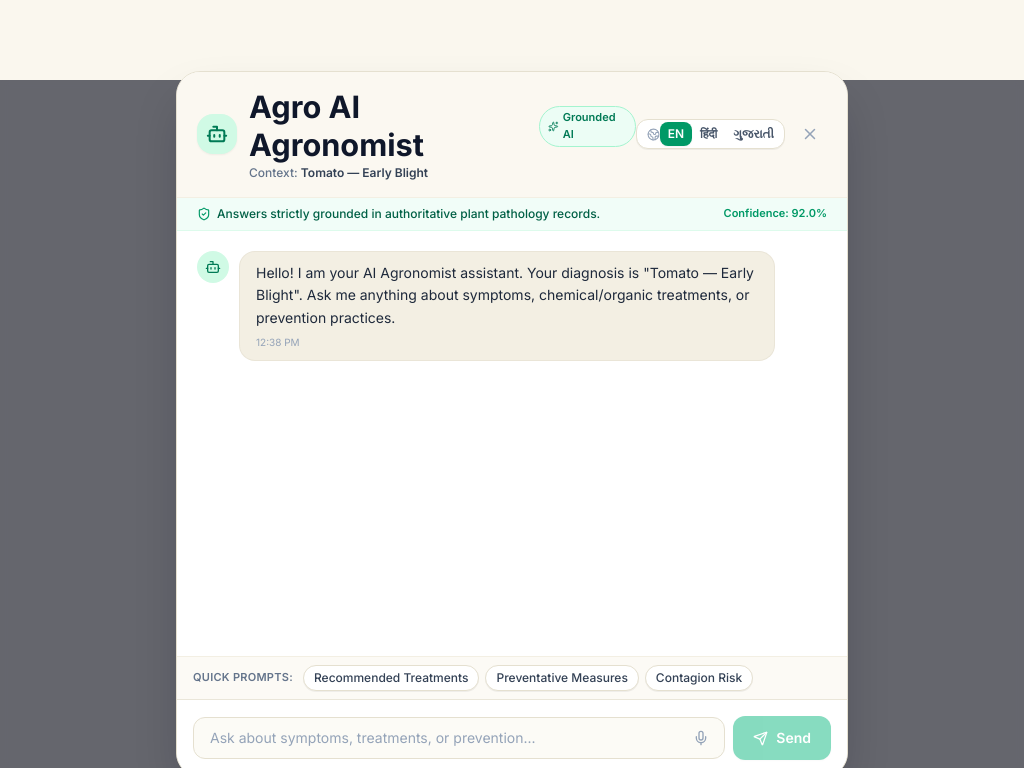
Scenario: DiagnosisChatAssistant Component › displays retryable error message when API fails
Type "What should I do?" into the field with placeholder "Ask about symptoms, treatments, or prevention..." at coordinates (459, 738), box [193,717,725,759]
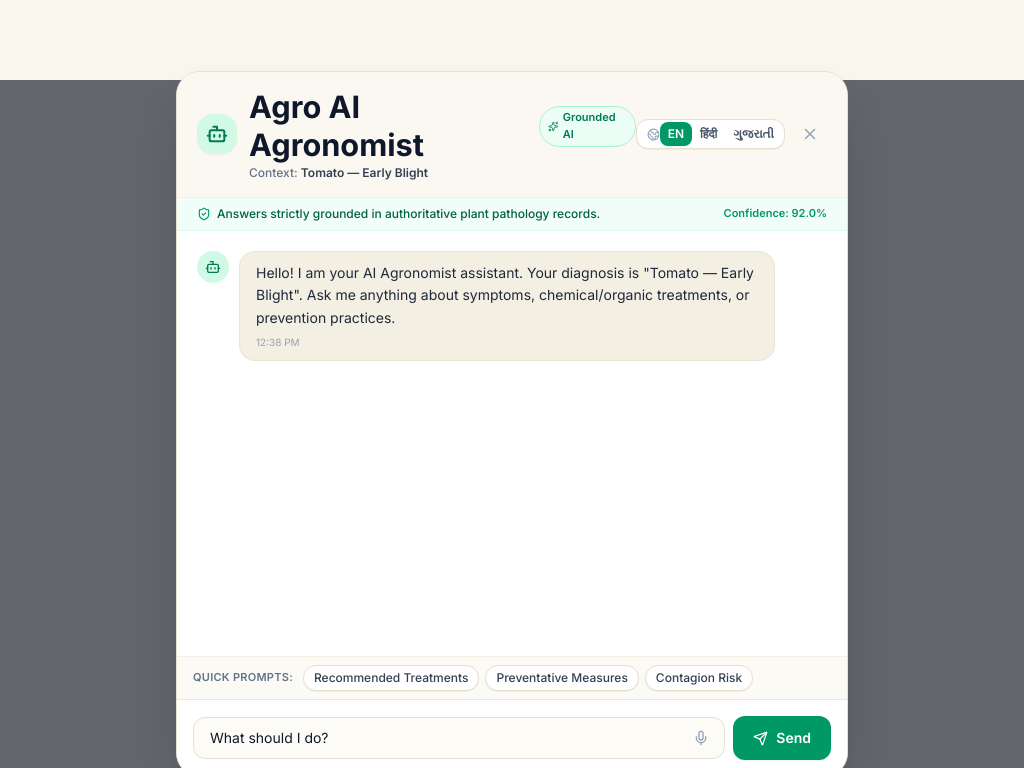
Click the button with aria-label "send message to agro ai" at coordinates (782, 738), box [733,716,831,760]
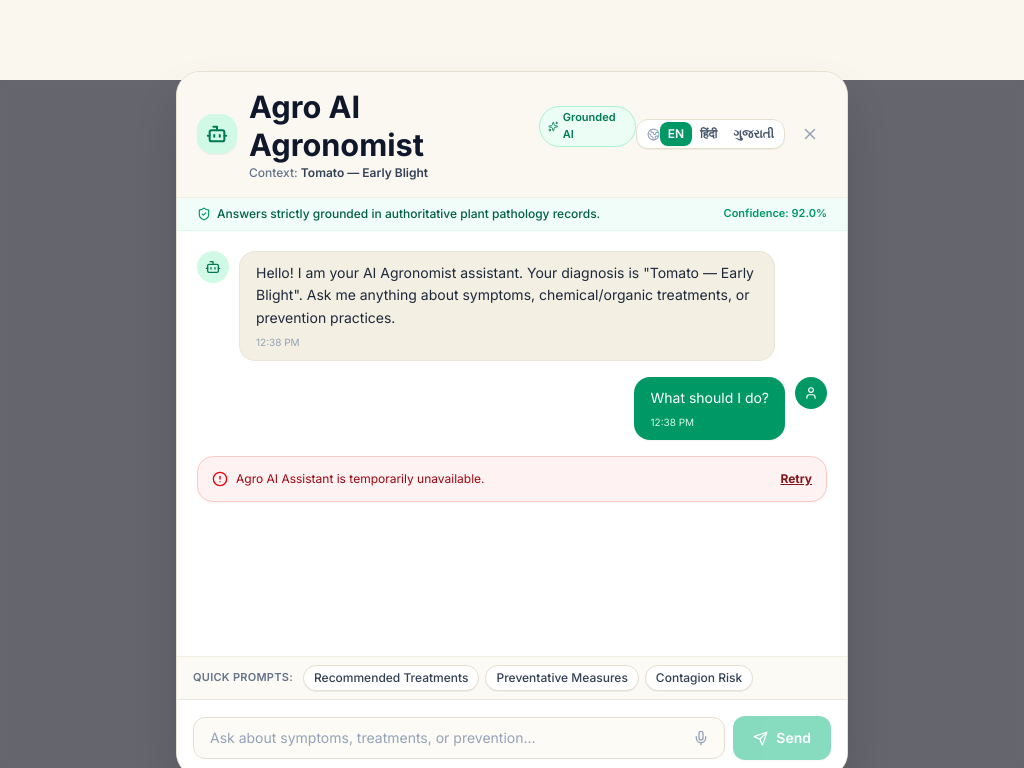
Check: the message "Agro AI Assistant is temporarily unavailable. Retry" is shown, box [197,456,827,502]
Check: the text "Agro AI Assistant is temporarily unavailable." is shown, box [236,471,484,487]
Check: the button "Retry" is shown, box [780,471,812,487]
